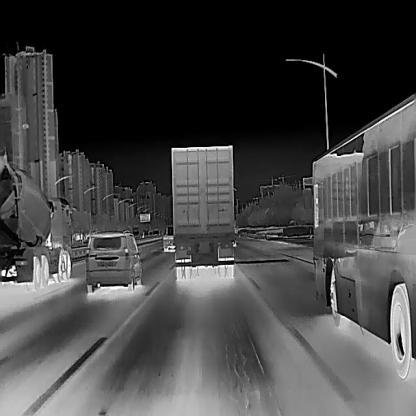car: (303, 94, 416, 379), (0, 140, 73, 291), (170, 144, 234, 281), (85, 229, 143, 292), (162, 223, 175, 252), (131, 224, 140, 238), (152, 228, 159, 236), (147, 229, 152, 237)
